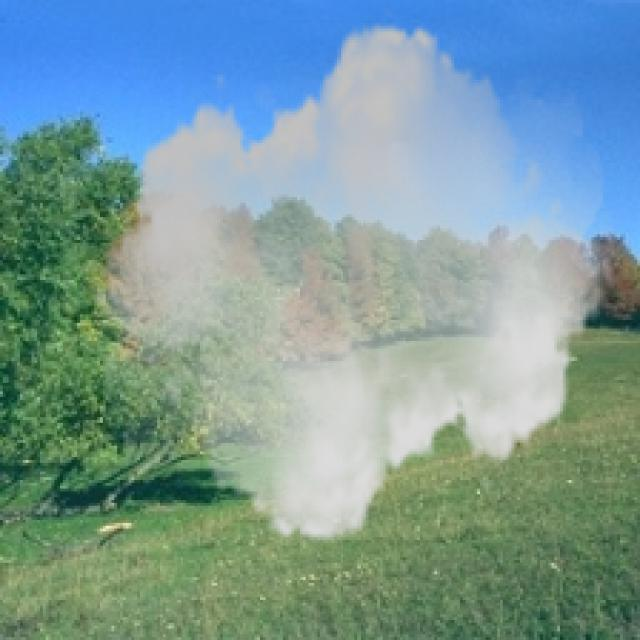Smoke: (91, 3, 614, 563)
